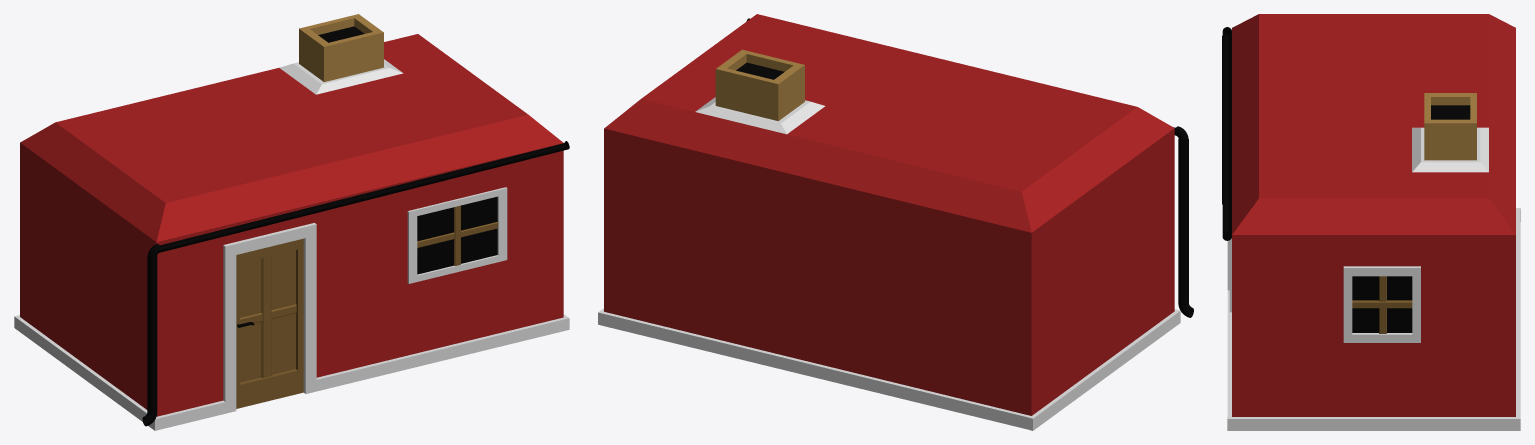
Rendered from smallhouse_rampage.fbx.
The picture shows the model from 3 angles, left to right: view 1: azimuth 30°, elevation 25°; view 2: azimuth 150°, elevation 25°; view 3: azimuth 270°, elevation 25°; orthographic projection. The views are drawn at different scales.
Parts seen in each view (by area): view 1: small_housecowgame; view 2: small_housecowgame; view 3: small_housecowgame.
Boxes of the visible parts, left/top/right/bottom form: small_housecowgame: left=14, top=14, right=569, bottom=430; small_housecowgame: left=598, top=14, right=1193, bottom=430; small_housecowgame: left=1222, top=14, right=1520, bottom=430.
Bounding box in the file's own units: 0.3465 × 0.1954 × 0.2026.
